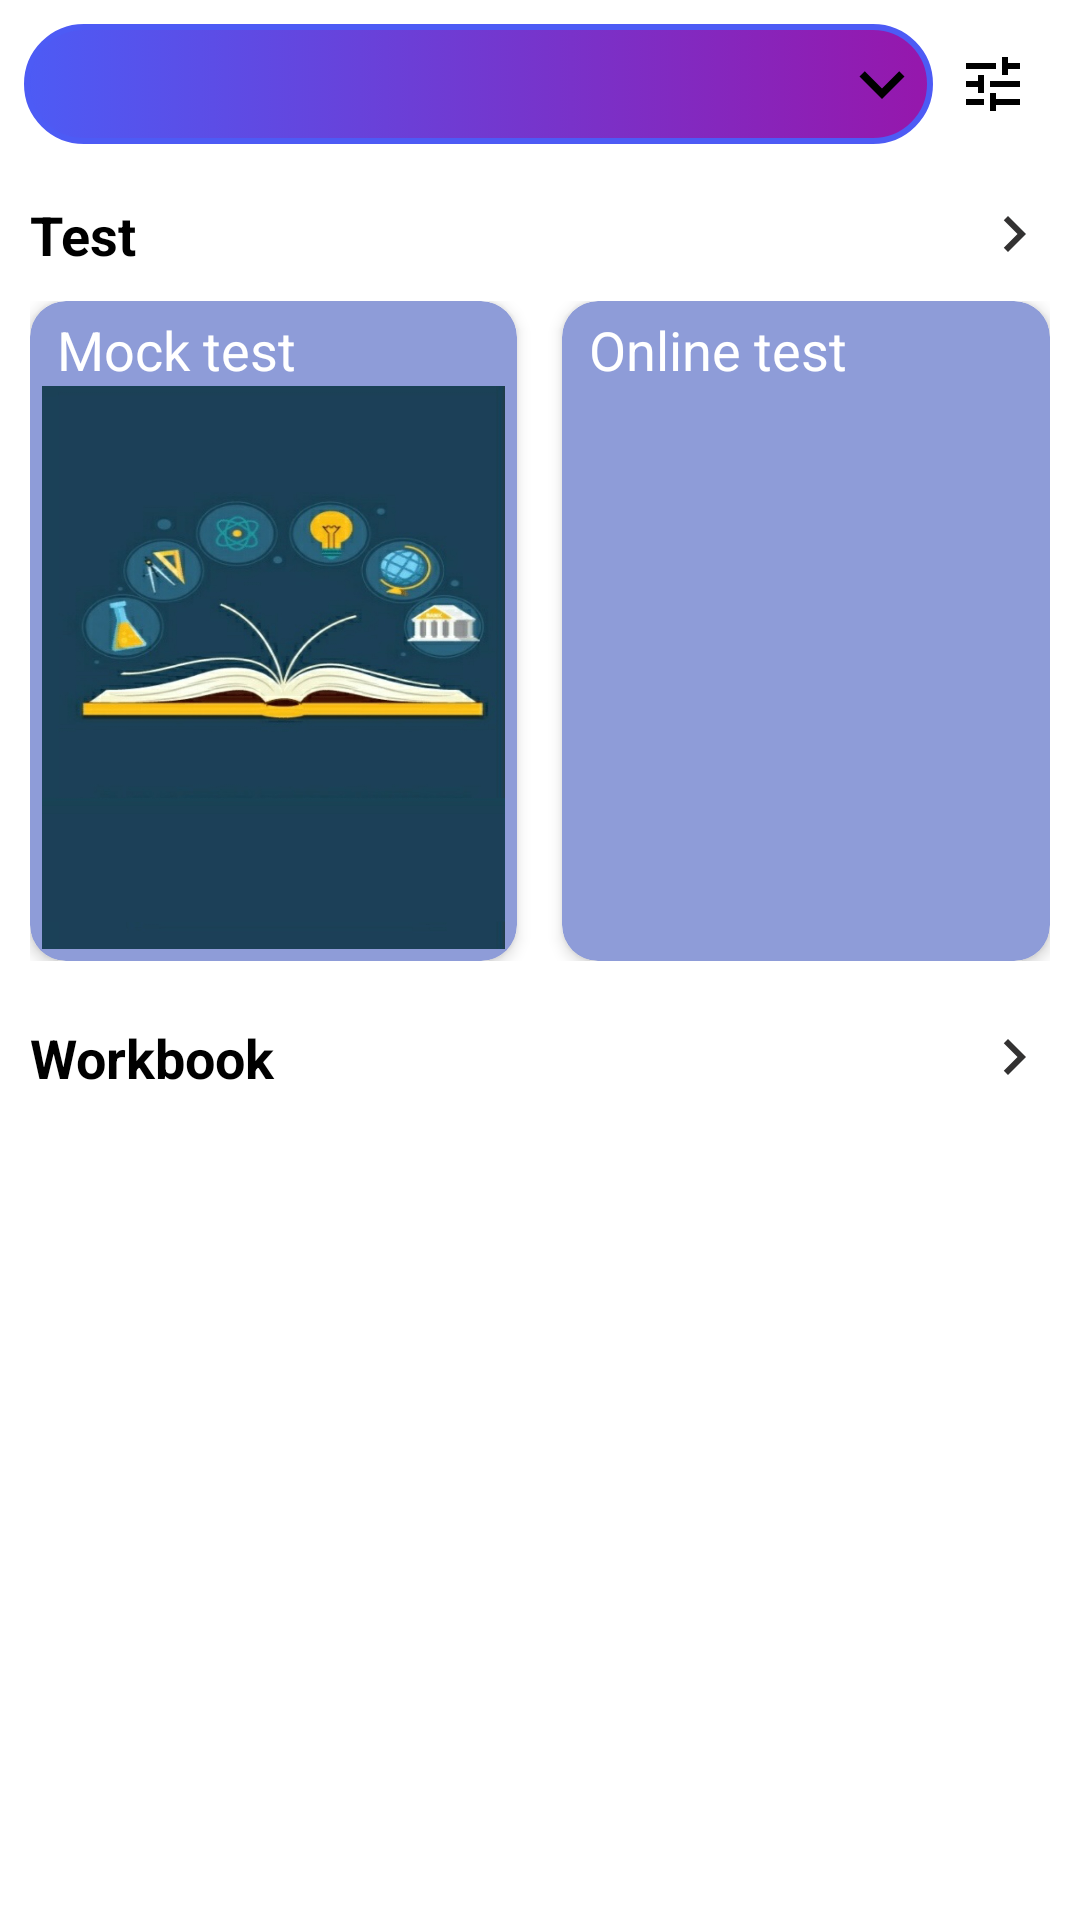

Screen size 1080px×1920px. Icon name, then its center in pixels as point (x, y):
expand more: point (882, 84)
tune: point (993, 84)
